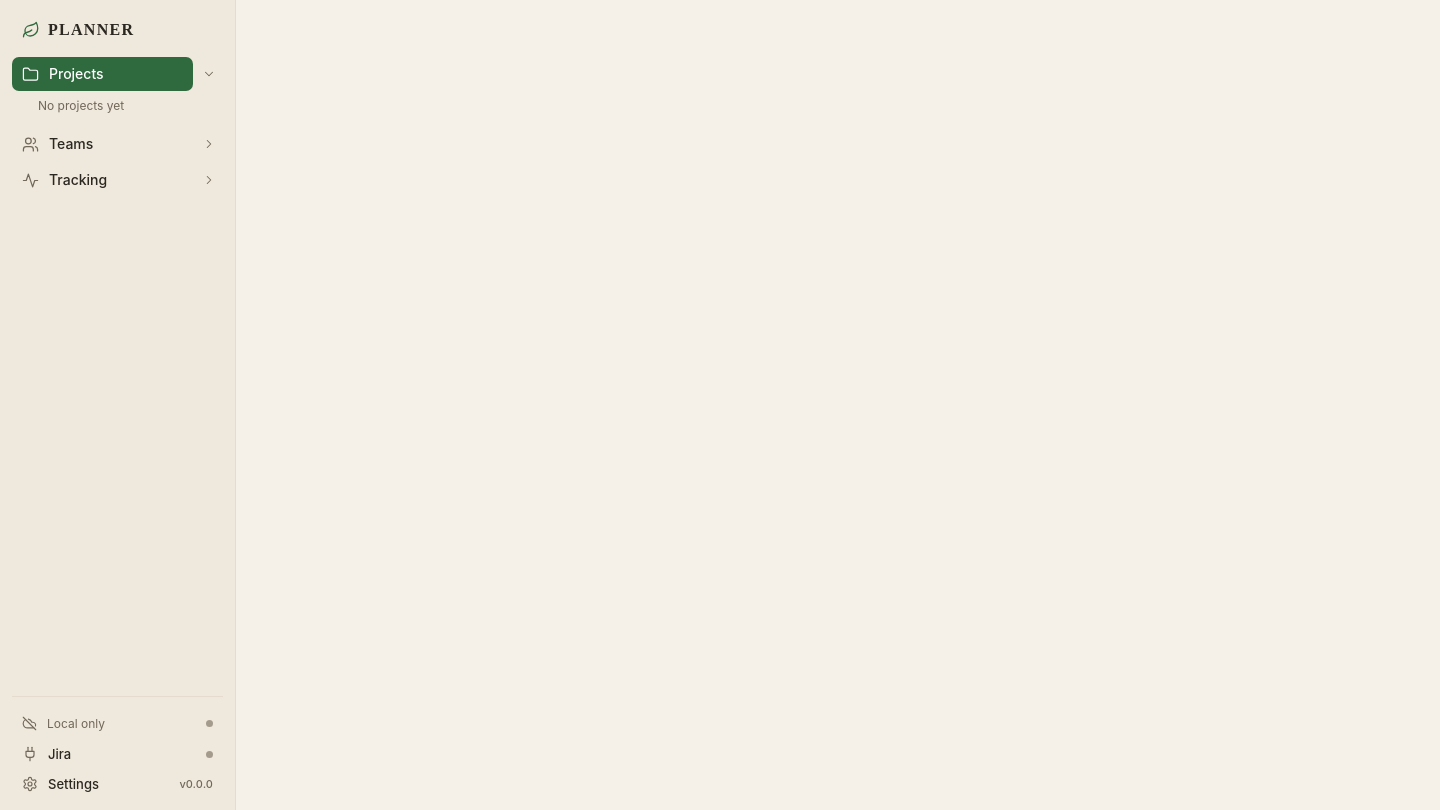
Test case: settings sections › keeps a half-typed sync address while looking at another section
Later steps or results of the test are not shown.
Click the button with aria-label "About Planner". click: {"x": 118, "y": 784}
box: [12,770,223,798]
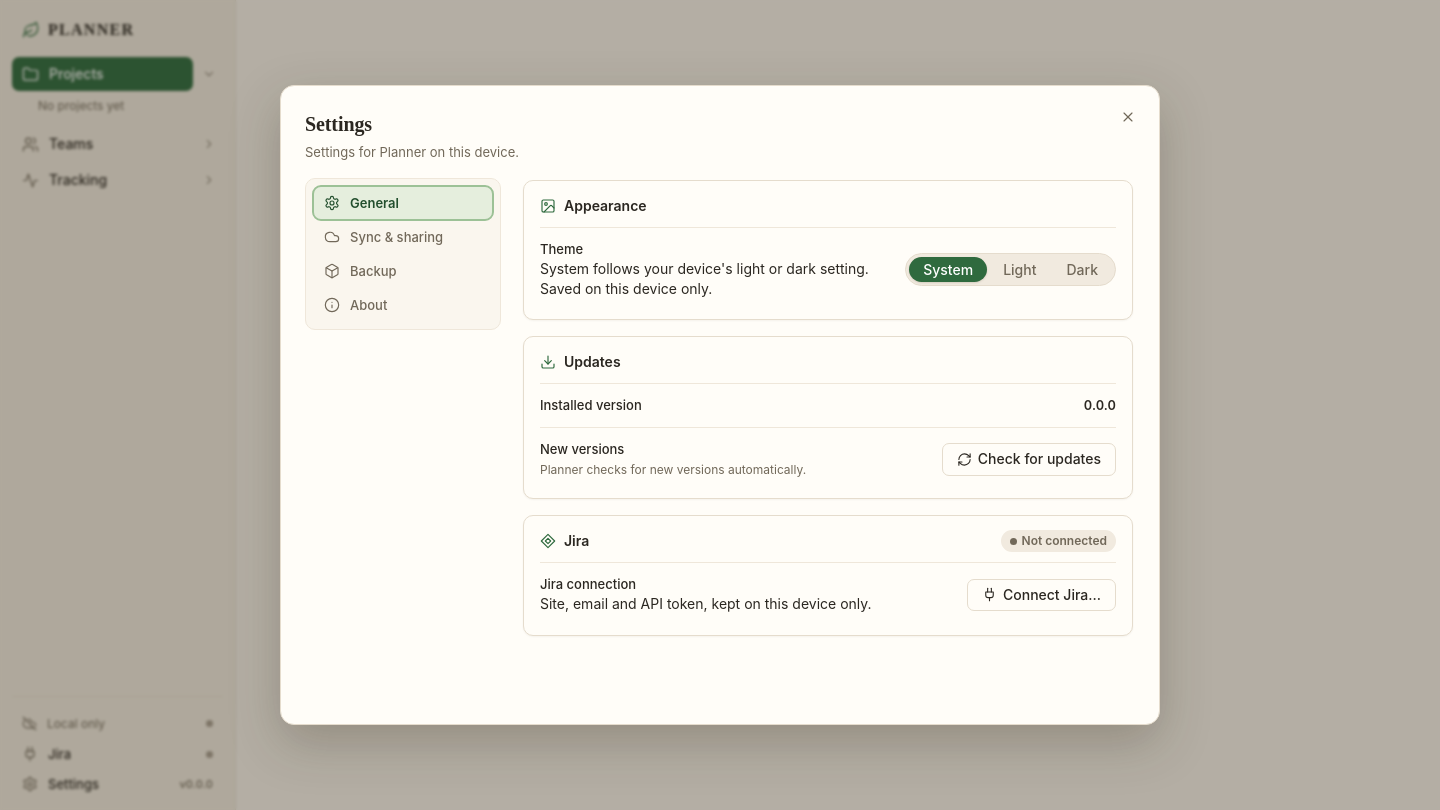
Click the tab "Sync & sharing". click: {"x": 403, "y": 237}
box: [314,221,492,253]
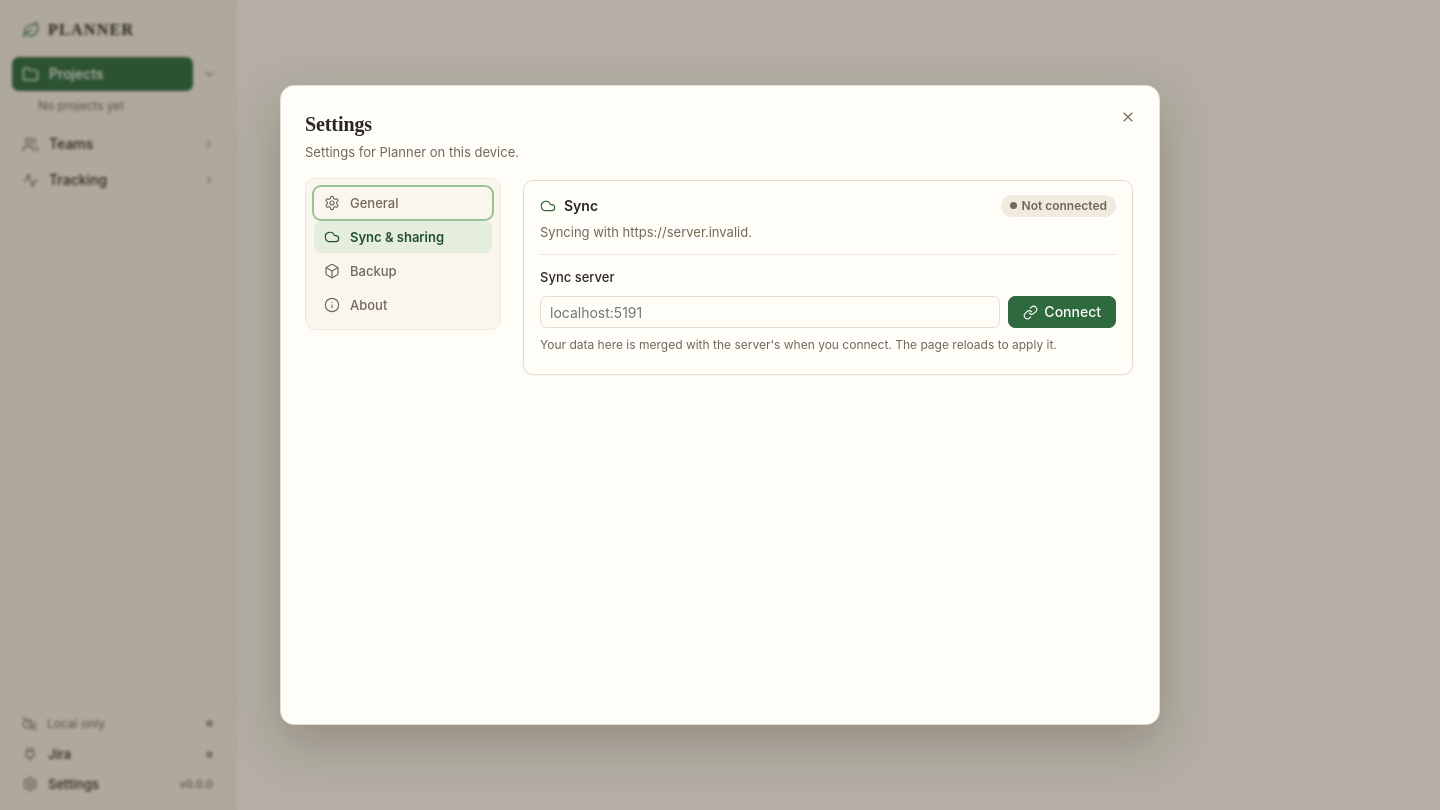
Type "mac.local:5191" into the field labelled "Sync server". click: {"x": 770, "y": 312}
box: [540,296,1000,328]
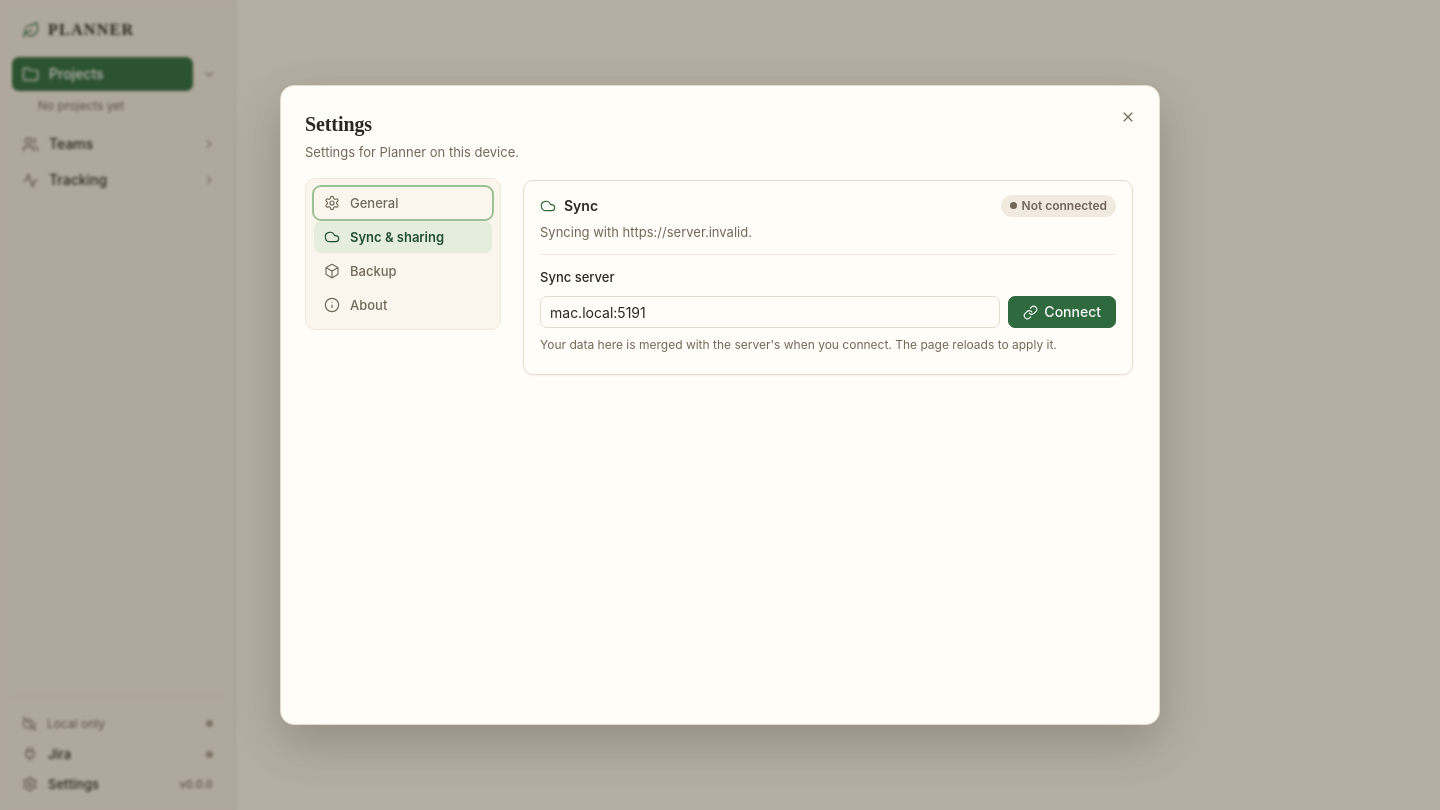
Click the tab "Backup". click: {"x": 403, "y": 271}
box: [314,255,492,287]
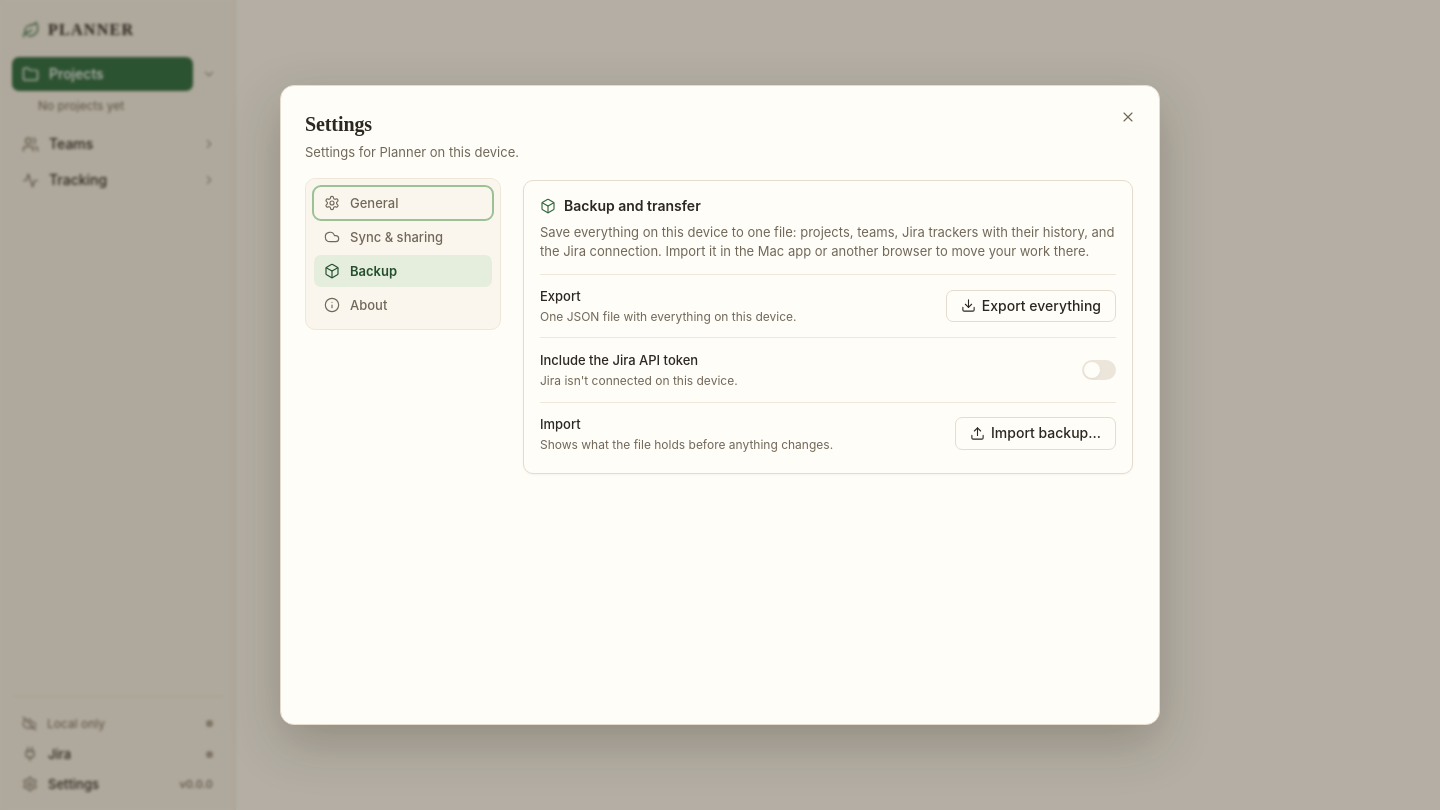
Now the button "Export everything" is shown, box [946,290,1116,322]
